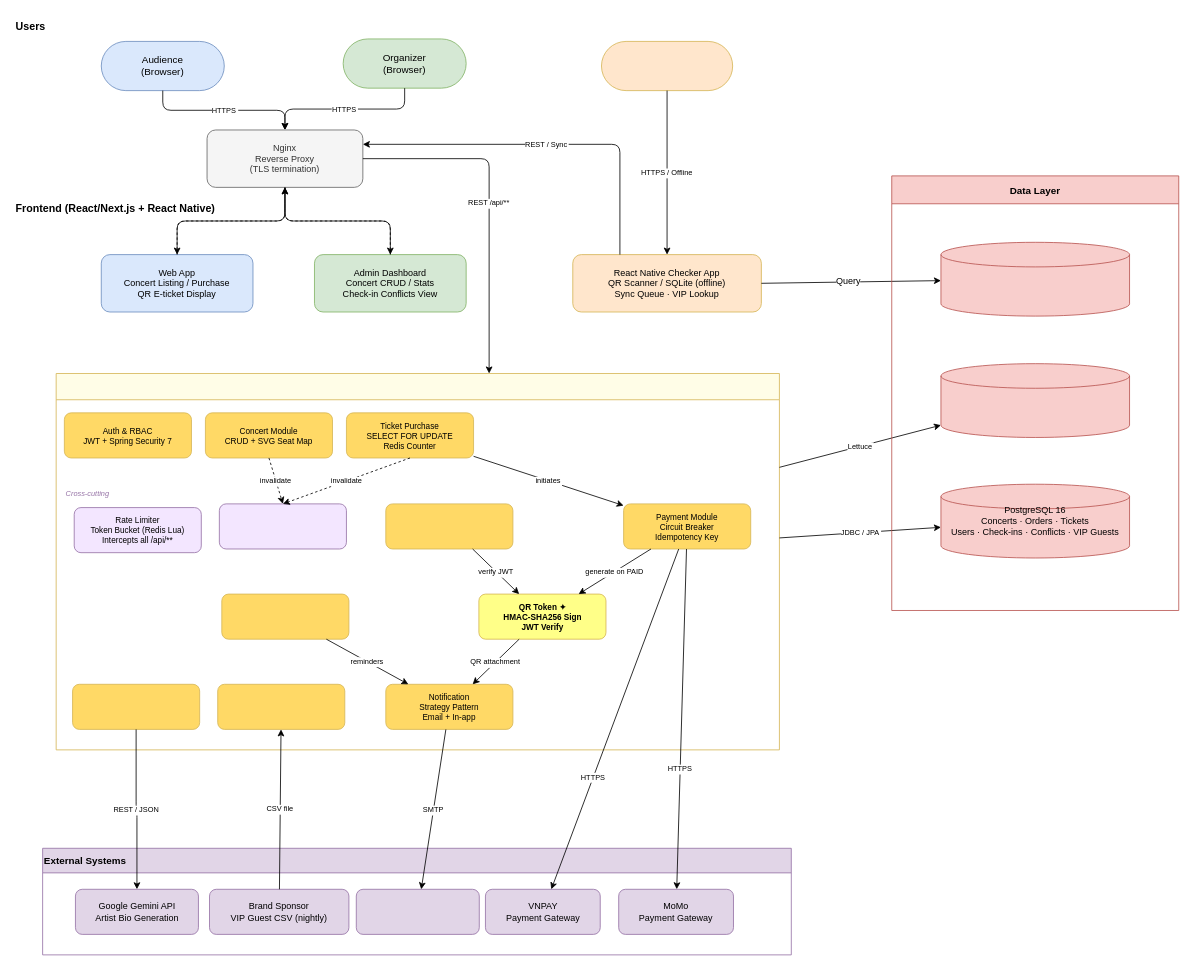
Some shapes in this 1193 by 969 pixel diagram are drawn without their labels. The shapes that lost their labels are listed below. From the top down, each one's box as (x1, y1, x2, y2) in pixels, then its label:
(601, 41, 733, 91): Checker Staff (Mobile App)
(940, 241, 1130, 316): SQLite Local DB · Offline Check-in
(940, 363, 1130, 437): Redis 7 Cache-aside · Rate Limiting Idempotency Keys · Pub/Sub
(219, 503, 346, 549): Cache Module ✦ Cache-aside (Redis) Concert / Ticket TTL
(385, 503, 513, 549): Check-in Module Online Scan (sync) Batch Sync + Conflicts
(55, 373, 779, 750): Backend (Java 25 · Spring Boot 4)
(221, 593, 349, 639): Background Scheduler Order Expiry 24h Reminders
(72, 683, 200, 729): AI Bio Module PDFBox + Gemini API @Async
(217, 683, 345, 729): CSV Import Job @Scheduled 02:00 Idempotent Upsert
(355, 888, 479, 934): Email SMTP Transactional Email
